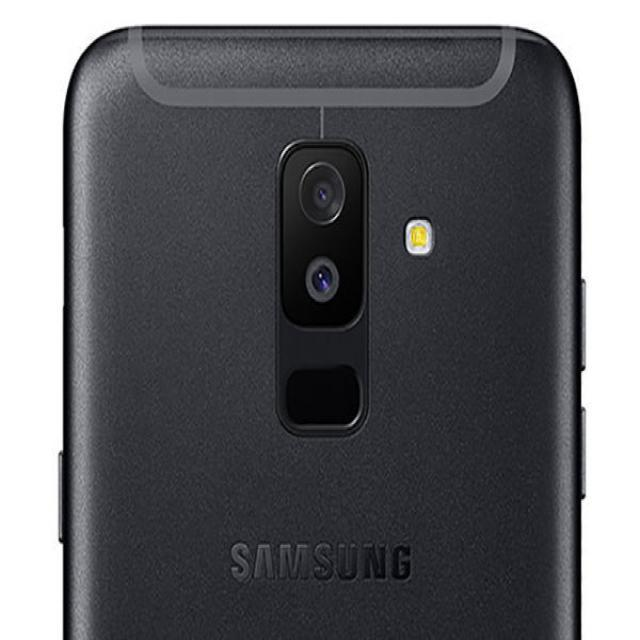phone: (59, 18, 584, 640)
